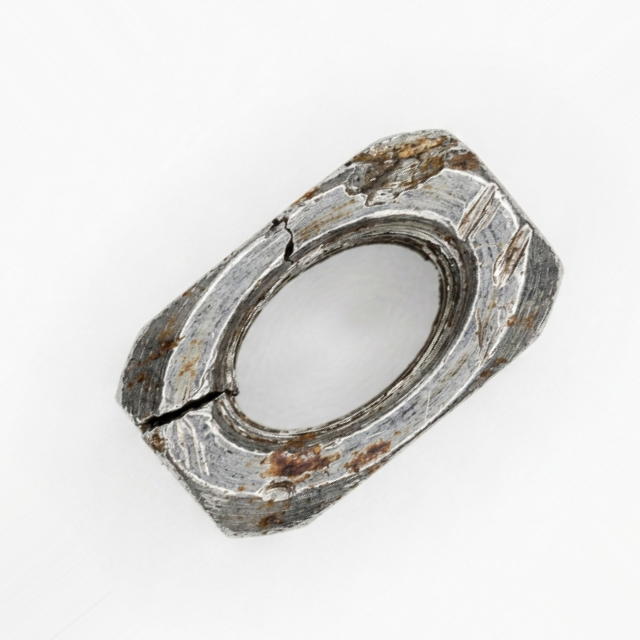defect: (339, 131, 472, 189), (132, 378, 242, 444), (253, 450, 328, 506), (448, 181, 513, 235), (494, 215, 539, 285), (470, 300, 511, 371), (263, 212, 305, 281)
